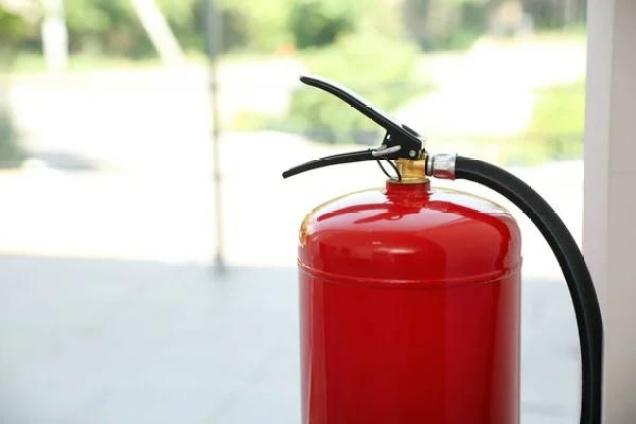APAR: (282, 75, 525, 423)
